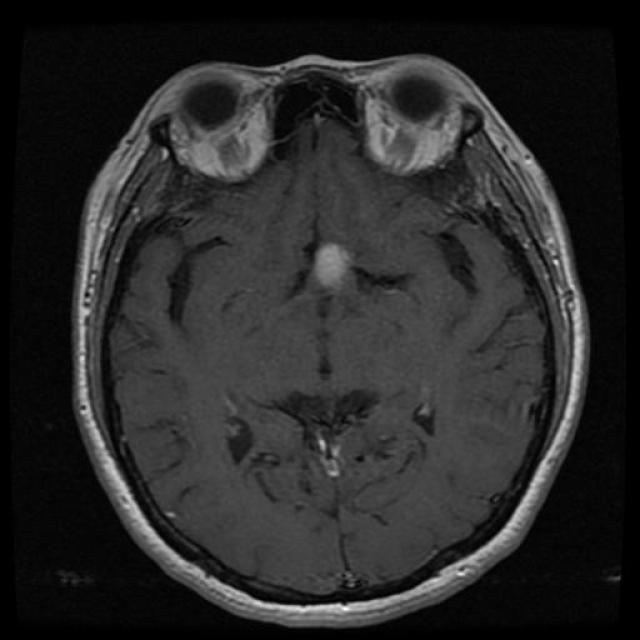Brain-Tumor: (302, 228, 365, 302)
eye: (155, 54, 310, 204), (349, 51, 489, 199)
